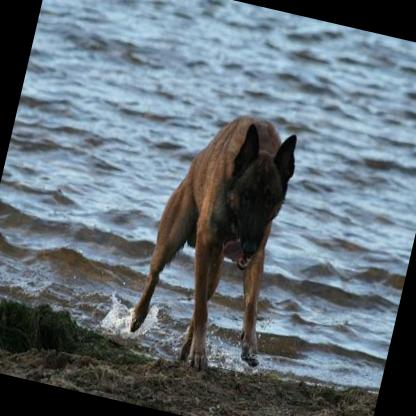malinois: (125, 98, 313, 380)
